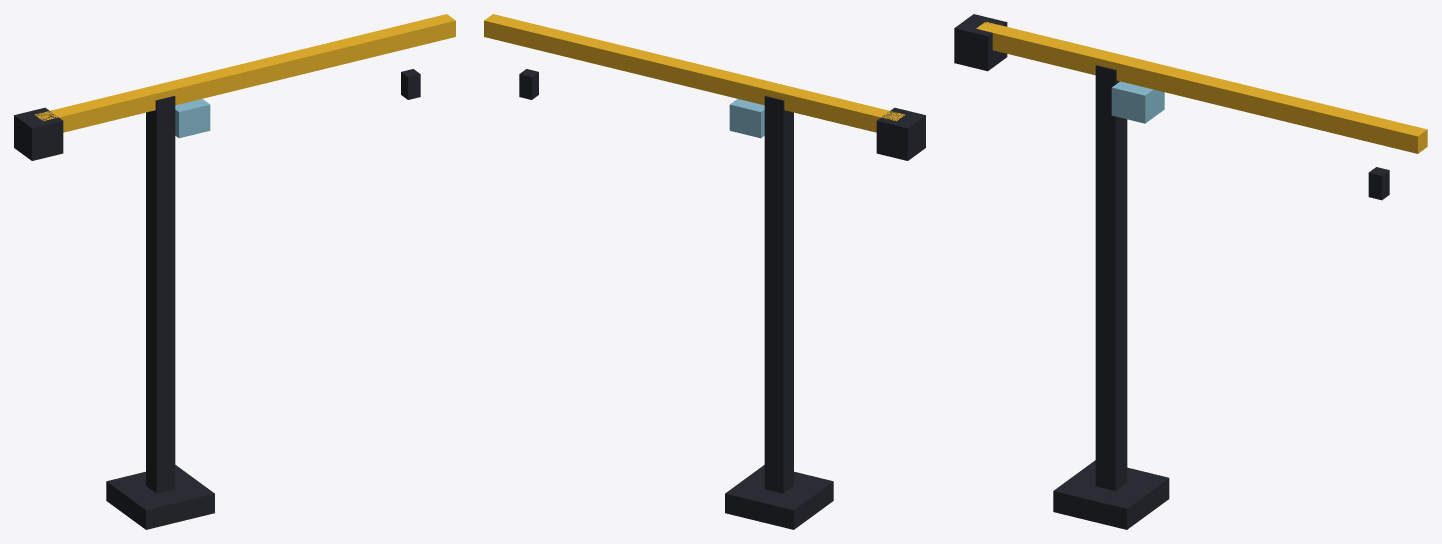
File: ConstructionCrane.fbx
3 renders of one model, left to right at view 1: azimuth 30°, elevation 25°; view 2: azimuth 150°, elevation 25°; view 3: azimuth 330°, elevation 25°, orthographic. The views are drawn at different scales.
Parts seen in each view (by area): view 1: Mast, Jib, Base, CounterJib, CounterWeight, Cab, HookBlock; view 2: Mast, Jib, Base, CounterJib, CounterWeight, Cab, HookBlock; view 3: Mast, Jib, Base, CounterJib, CounterWeight, Cab, HookBlock.
Part boxes in pixels (left/top/right/bottom): Mast: left=146, top=96, right=175, bottom=493; Jib: left=166, top=14, right=455, bottom=105; Base: left=106, top=465, right=214, bottom=529; CounterJib: left=35, top=82, right=174, bottom=132; CounterWeight: left=14, top=107, right=63, bottom=160; Cab: left=175, top=99, right=210, bottom=138; HookBlock: left=401, top=69, right=420, bottom=99; Mast: left=764, top=96, right=793, bottom=493; Jib: left=484, top=14, right=773, bottom=105; Base: left=725, top=465, right=833, bottom=529; CounterJib: left=765, top=82, right=904, bottom=132; CounterWeight: left=876, top=107, right=925, bottom=160; Cab: left=729, top=99, right=764, bottom=138; HookBlock: left=519, top=69, right=538, bottom=99; Mast: left=1095, top=65, right=1127, bottom=490; Jib: left=1116, top=56, right=1427, bottom=153; Base: left=1053, top=460, right=1169, bottom=529; CounterJib: left=976, top=21, right=1125, bottom=75; CounterWeight: left=954, top=14, right=1007, bottom=71; Cab: left=1111, top=81, right=1164, bottom=123; HookBlock: left=1368, top=167, right=1389, bottom=200.
Bounding box in the file's own units: 46.92 × 43.84 × 7.53.
